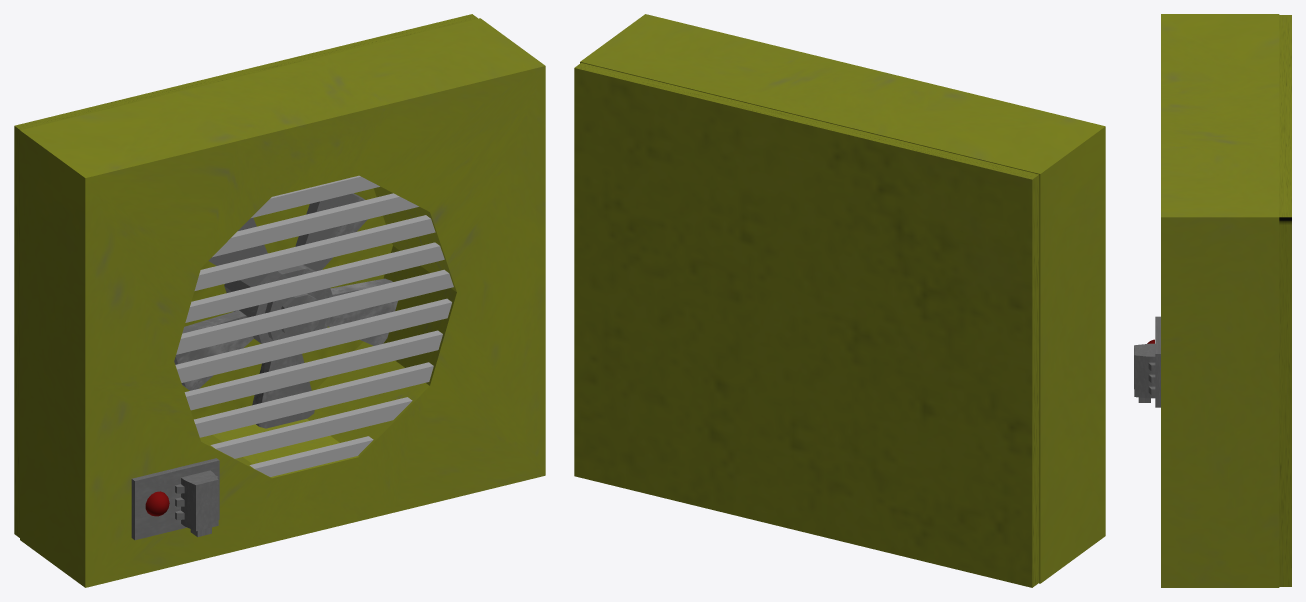
The model's file is Fan.fbx.
3 renders of one model, left to right at view 1: azimuth 30°, elevation 25°; view 2: azimuth 150°, elevation 25°; view 3: azimuth 270°, elevation 25°, orthographic. The views are drawn at different scales.
Parts seen in each view (by area): view 1: pCylinder1, pCube1, pCube2, pCylinder2, pCube3, m_wireConnector1; view 2: pCube2, pCylinder1; view 3: pCylinder1, pCube2, m_wireConnector1, pCube3.
Boxes of the visible parts, x1=… form: pCylinder1: x1=20, y1=18, x2=545, y2=587; pCube1: x1=175, y1=175, x2=453, y2=476; pCube2: x1=14, y1=14, x2=477, y2=537; pCylinder2: x1=174, y1=193, x2=397, y2=428; pCube3: x1=131, y1=458, x2=219, y2=540; m_wireConnector1: x1=175, y1=470, x2=218, y2=536; pCube2: x1=574, y1=63, x2=1039, y2=587; pCylinder1: x1=580, y1=14, x2=1105, y2=583; pCylinder1: x1=1161, y1=14, x2=1279, y2=587; pCube2: x1=1279, y1=15, x2=1291, y2=586; m_wireConnector1: x1=1134, y1=343, x2=1155, y2=402; pCube3: x1=1155, y1=316, x2=1160, y2=407.
Bounding box in the file's own units: 814 × 692 × 267.
